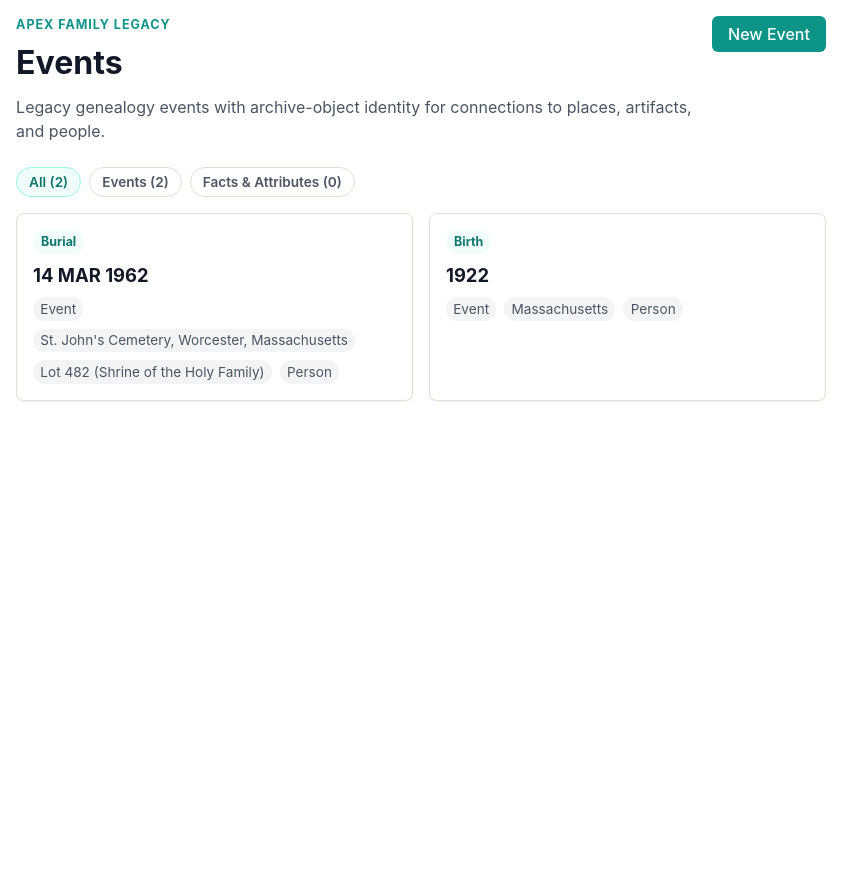
Scenario: EventsPage — the burial plot › offers a plot field when creating an event
Expected: the text "Burial" is shown, [33,230,84,254]
Click the button "New Event".
click(769, 34)  # box [712,16,826,52]
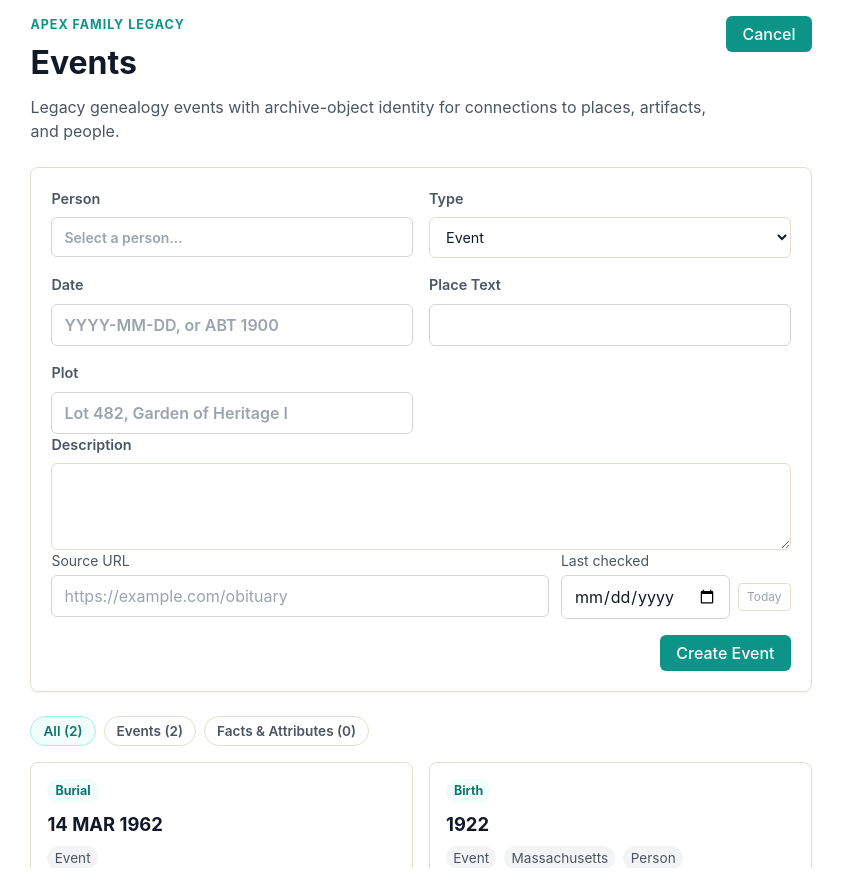
Expected: the text "Plot" is shown, [51,364,78,381]
Expected: the field with placeholder "Lot 482, Garden of Heritage I" is shown, [51,392,413,434]
